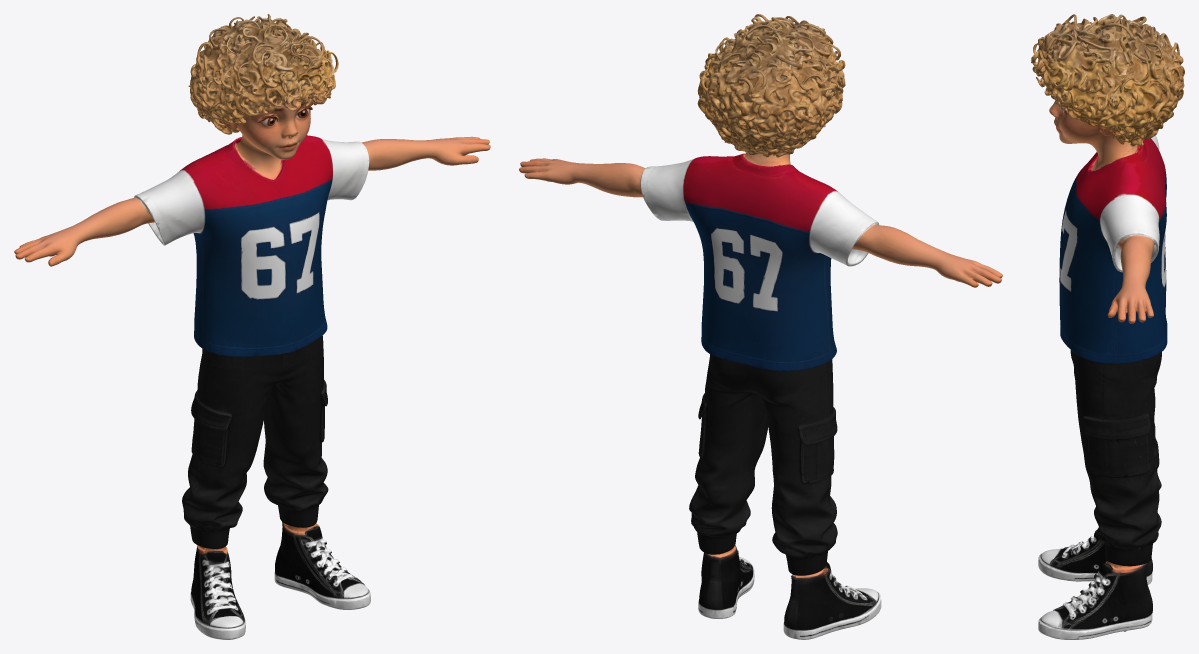
3 views of the same model, side by side, from view 1: azimuth 30°, elevation 25°; view 2: azimuth 150°, elevation 25°; view 3: azimuth 270°, elevation 25° (orthographic).
Bounding box in the file's own units: 1.62 × 1.9 × 0.4528.
Materials: 1 (1 with a texture image).
